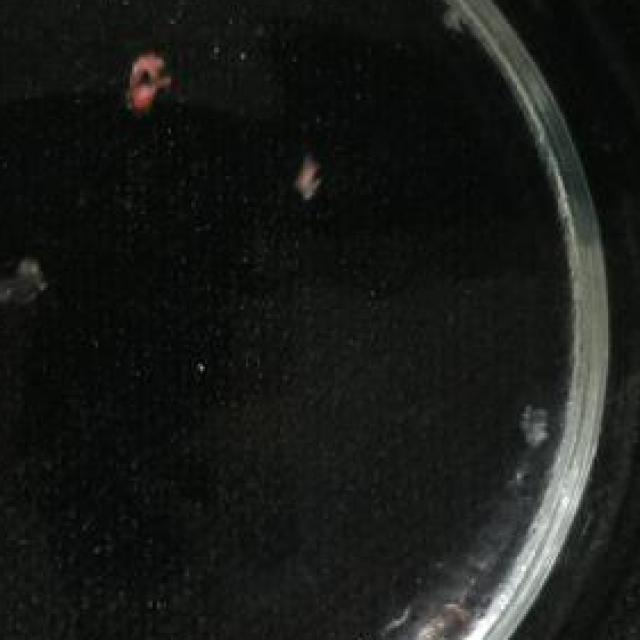Microplastic: (285, 140, 360, 226), (0, 226, 59, 314), (107, 47, 171, 116), (524, 400, 569, 466)
